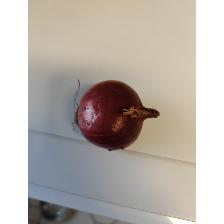Zwiebel: (74, 78, 160, 154)
